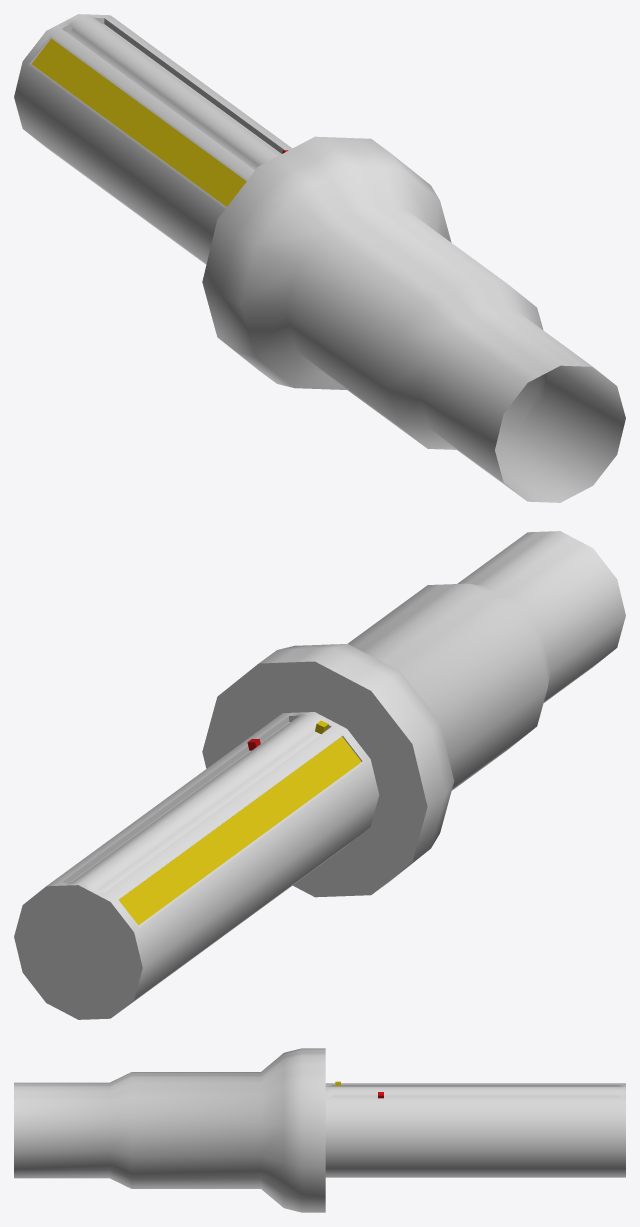
The picture shows the model from 3 angles, top to bottom: view 1: azimuth 30°, elevation 25°; view 2: azimuth 150°, elevation 25°; view 3: azimuth 270°, elevation 25°; orthographic projection. The views are drawn at different scales.
Visible parts, largest first — view 1: Circle; view 2: Circle; view 3: Circle.
Boxes of the visible parts, left/top/right/bottom form: Circle: left=14, top=14, right=625, bottom=502; Circle: left=14, top=531, right=625, bottom=1019; Circle: left=14, top=1048, right=625, bottom=1212.
Size of the model in its own units: 7.79 by 7.79 by 28.88.
